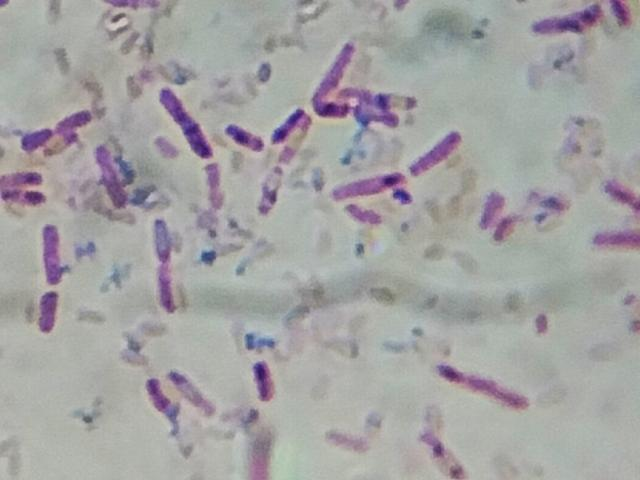E. coli: (438, 362, 534, 413), (158, 83, 212, 160), (12, 109, 91, 150), (412, 126, 467, 174), (326, 169, 407, 200), (93, 142, 128, 209), (333, 80, 423, 106), (38, 216, 73, 281), (172, 366, 216, 417), (151, 216, 174, 312), (318, 96, 392, 123), (311, 44, 354, 87), (539, 5, 594, 35), (135, 370, 169, 418), (592, 223, 638, 257), (248, 353, 278, 405), (227, 117, 269, 154), (596, 169, 637, 206), (31, 290, 62, 338), (272, 106, 301, 146), (482, 187, 505, 235), (0, 189, 49, 208), (0, 170, 41, 192), (612, 0, 633, 35), (345, 202, 378, 224)
